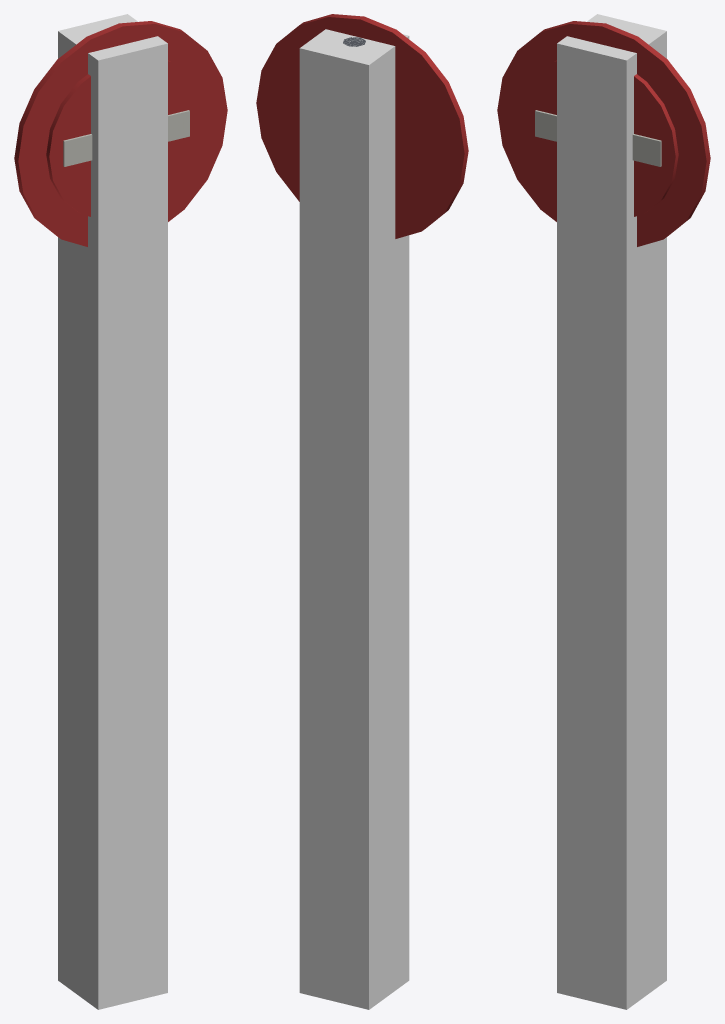
File: sign_noentry.glb
The picture shows the model from 3 angles, left to right: view 1: azimuth 30°, elevation 25°; view 2: azimuth 150°, elevation 25°; view 3: azimuth 330°, elevation 25°; orthographic projection.
Visible parts, largest first — view 1: sign_noentry-col, sign_noentry_mesh; view 2: sign_noentry-col, sign_noentry_mesh; view 3: sign_noentry-col, sign_noentry_mesh.
Part boxes in pixels (box(x1,y1,x2,y2)): sign_noentry-col: box(58, 14, 167, 1009); sign_noentry_mesh: box(14, 21, 227, 246); sign_noentry-col: box(299, 29, 409, 1009); sign_noentry_mesh: box(256, 14, 468, 238); sign_noentry-col: box(557, 14, 666, 1009); sign_noentry_mesh: box(497, 21, 710, 246).
Size of the model in its own units: 0.6 by 2.65 by 0.2.
